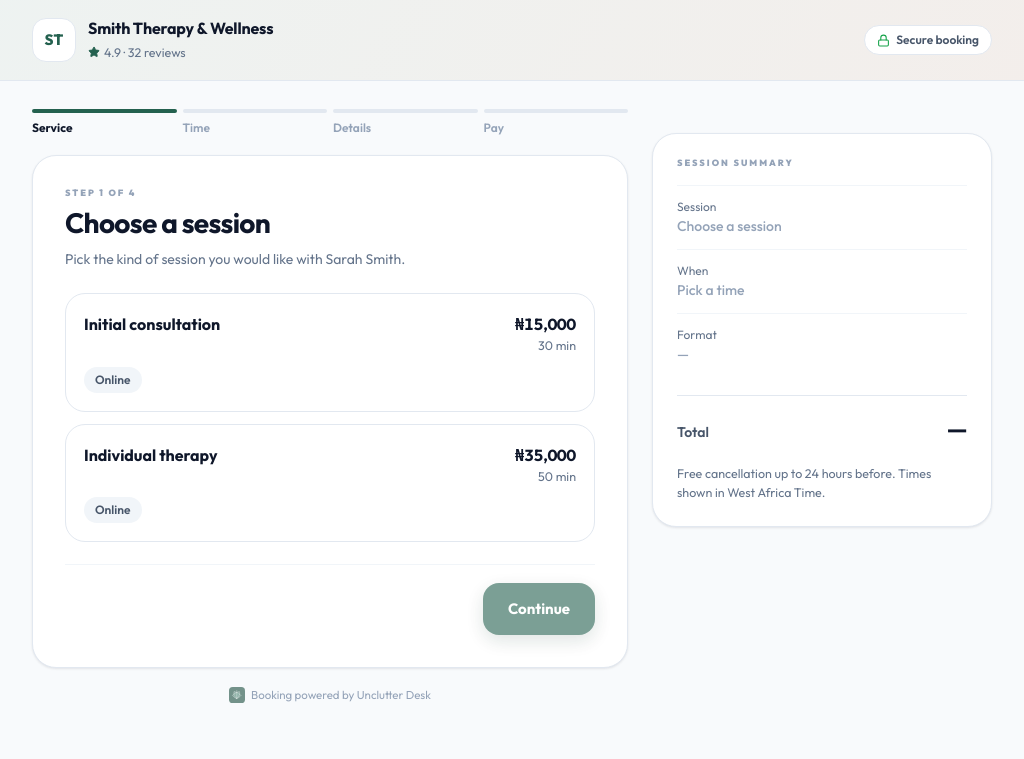
Test case: BookingWizardPage › asks a signed-out client to sign in before going on
Click the button "Individual therapy ₦35,000 50 min Online" at (151, 455), box [65,424,595,542]
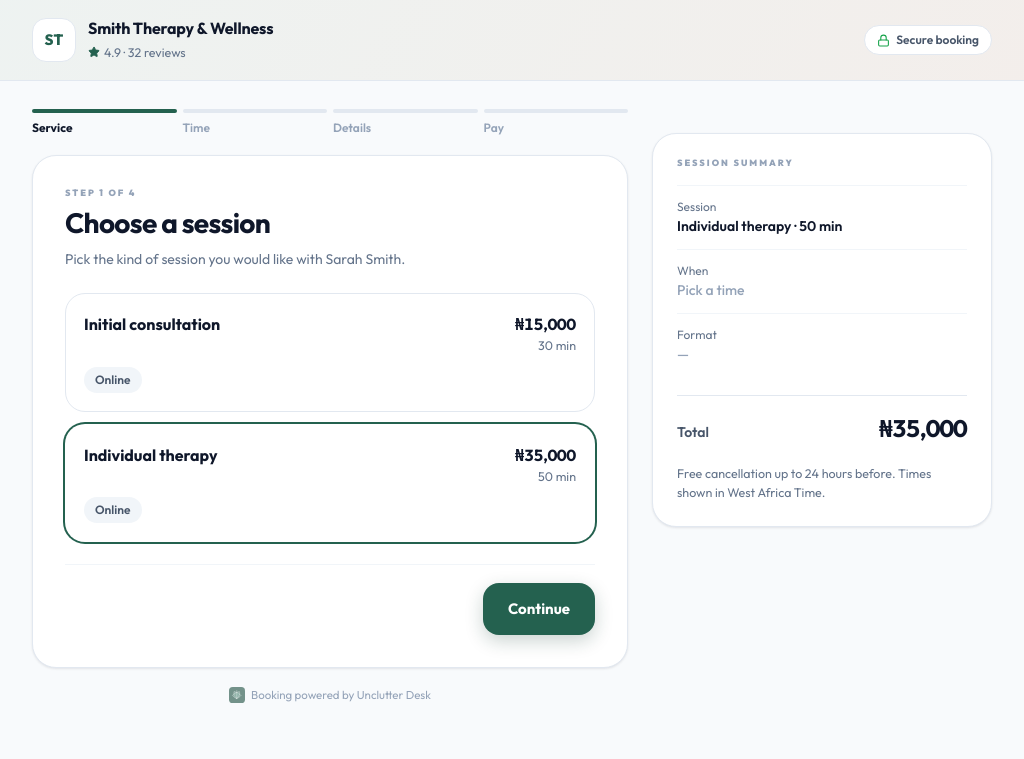
Click the button "Continue" at (539, 609), box [483,583,595,635]
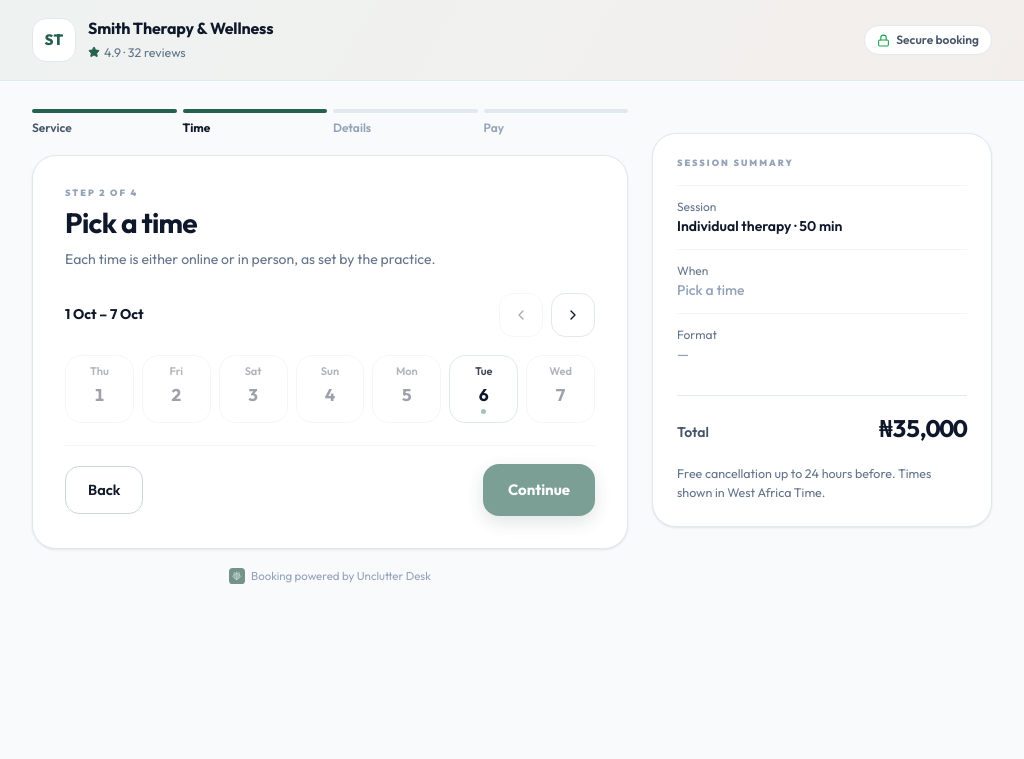
Click the button with aria-label "Tue, 6 Oct" at (484, 389), box [449,355,518,423]
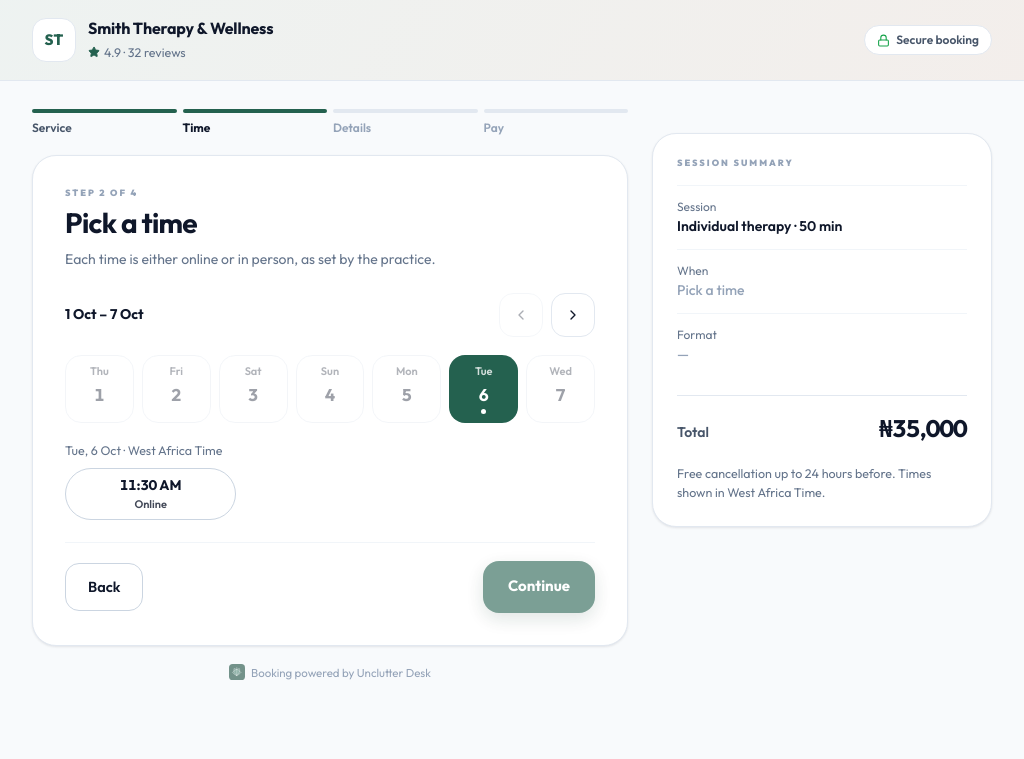
Click the button "11:30 AM Online" at (151, 494), box [65,468,236,520]
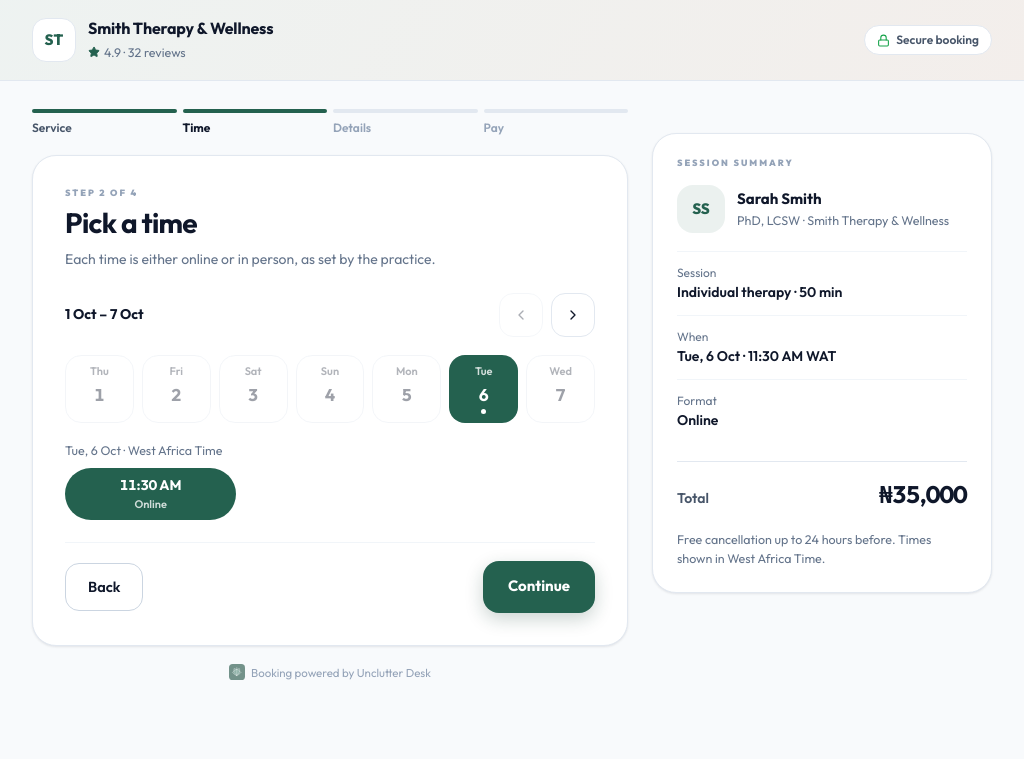
Click the button "Continue" at (539, 587), box [483,561,595,613]
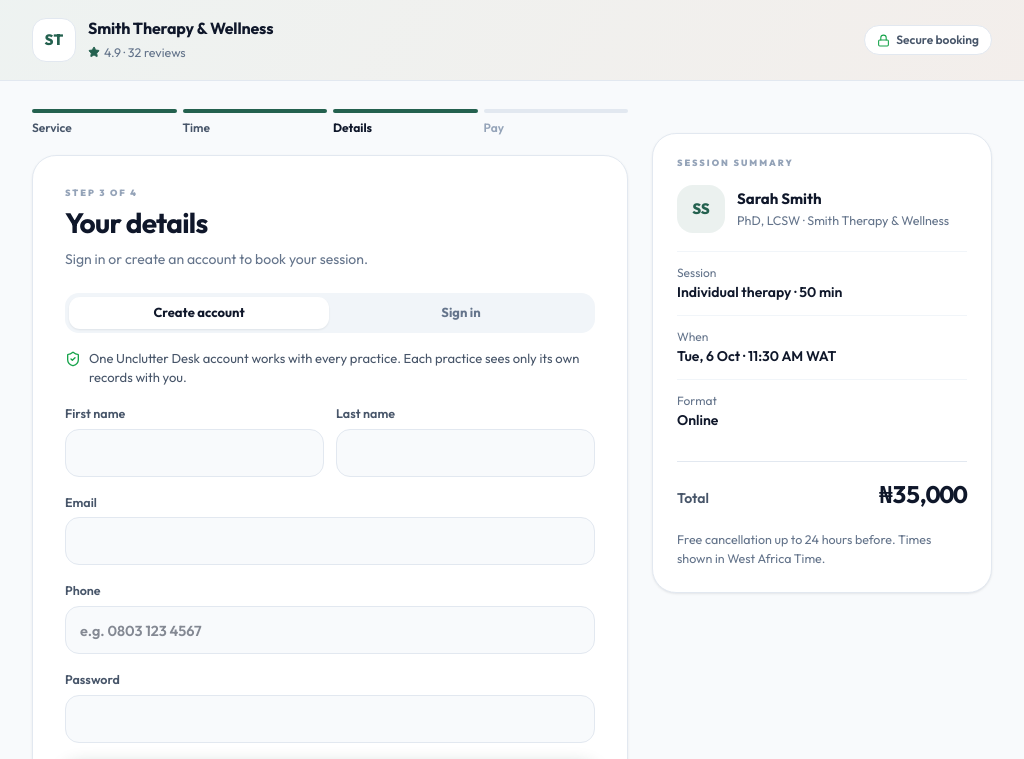
Result: the heading "Your details" is shown at [65,205,208,240]
Result: the button "Create account" is shown at [69,297,329,329]
